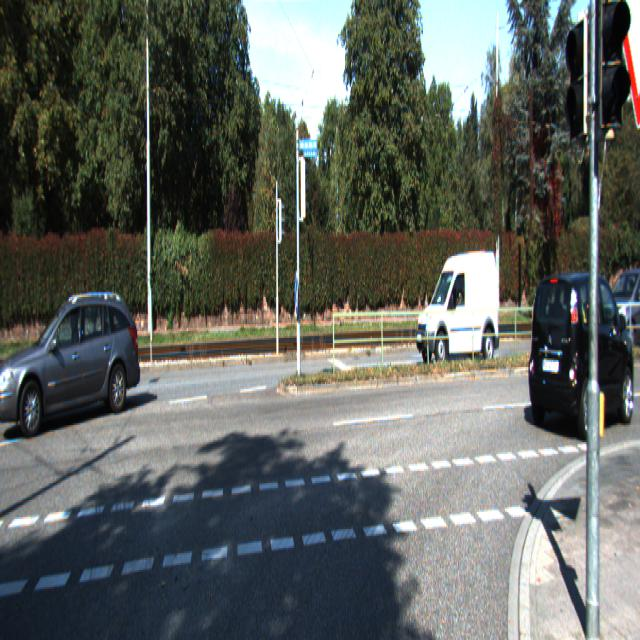Car: (0, 288, 141, 436), (527, 260, 638, 438), (416, 247, 501, 371), (599, 268, 639, 355)
